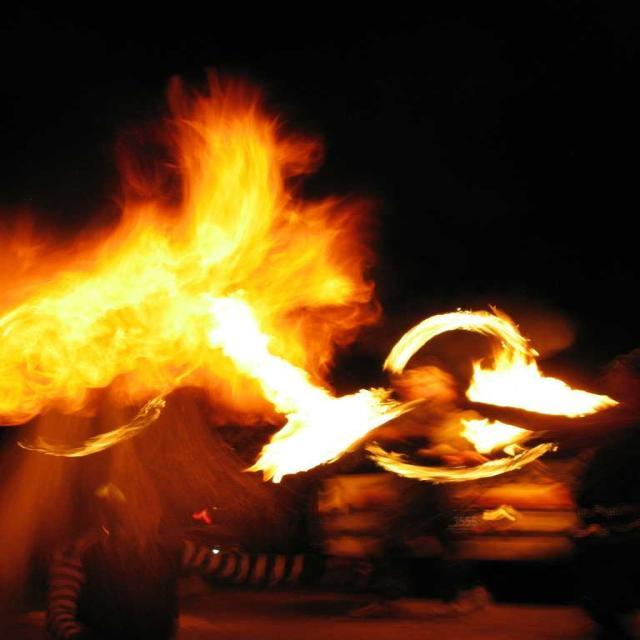Fire: (4, 250, 313, 380), (184, 112, 268, 240), (279, 402, 388, 438), (473, 373, 569, 412)
